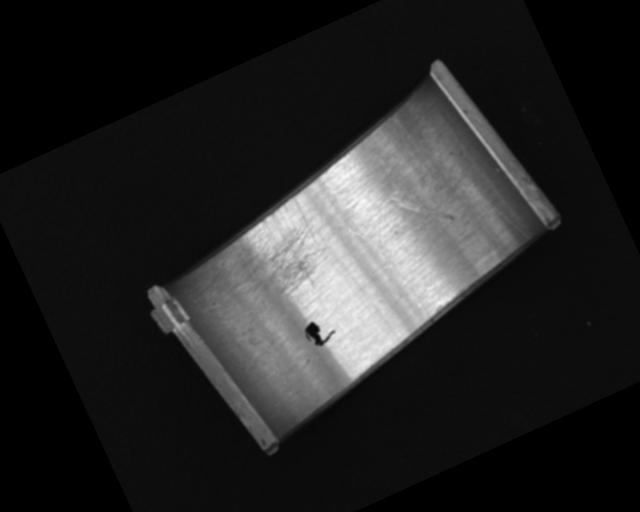blot: (300, 314, 339, 351)
nick: (344, 210, 433, 337), (456, 161, 533, 259), (391, 178, 455, 240), (366, 147, 405, 210)
scratch: (192, 193, 342, 324)
